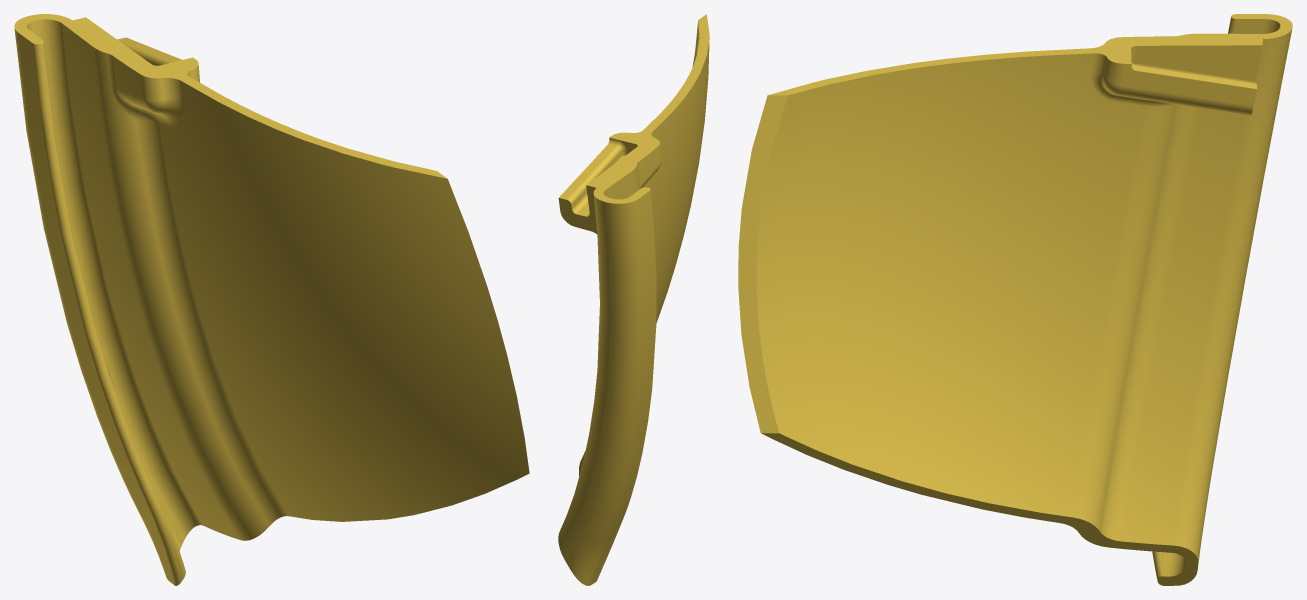
The picture shows the model from 3 angles, left to right: view 1: azimuth 30°, elevation 25°; view 2: azimuth 150°, elevation 25°; view 3: azimuth 270°, elevation 25°; orthographic projection. The views are drawn at different scales.
Parts seen in each view (by area): view 1: Body1; view 2: Body1; view 3: Body1.
Boxes of the visible parts, box(x1,y1,x2,y2) form: Body1: box(14, 14, 529, 585); Body1: box(558, 14, 709, 585); Body1: box(738, 14, 1292, 585).
Bounding box in the file's own units: 461 × 951 × 914.
